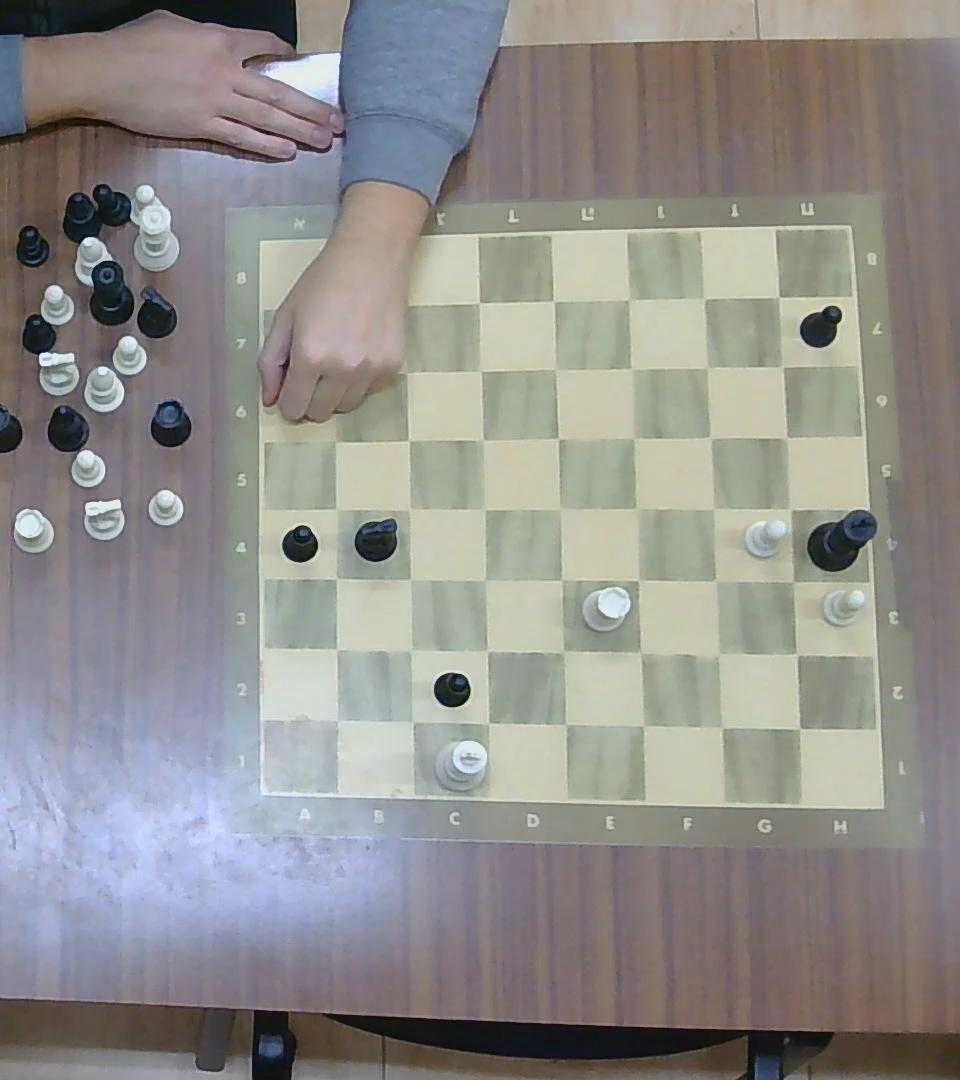xcorner: (781, 710, 815, 744), (389, 286, 423, 320), (701, 638, 735, 670), (548, 706, 580, 738), (705, 710, 736, 743), (625, 635, 656, 667), (626, 709, 657, 741), (622, 563, 654, 594), (471, 707, 503, 737), (320, 292, 350, 324), (321, 703, 351, 734), (396, 705, 427, 735), (622, 492, 652, 523), (781, 639, 812, 669), (548, 636, 578, 666), (471, 636, 501, 666), (615, 283, 645, 313), (700, 565, 730, 595), (539, 285, 569, 315), (320, 563, 350, 593), (465, 286, 494, 317), (545, 494, 574, 524), (698, 493, 728, 522), (470, 493, 500, 522), (548, 565, 577, 595), (397, 635, 426, 664), (776, 493, 805, 522), (617, 353, 646, 382), (470, 566, 500, 594), (777, 566, 807, 594), (621, 422, 649, 451), (543, 353, 571, 382), (470, 424, 498, 453), (396, 564, 424, 593), (693, 352, 722, 380), (545, 424, 573, 452), (322, 635, 350, 663), (691, 284, 719, 312), (467, 355, 495, 383), (318, 355, 346, 383), (698, 422, 725, 451), (769, 352, 797, 379), (323, 496, 351, 523), (772, 422, 801, 448), (396, 494, 423, 521), (395, 427, 423, 453), (321, 427, 349, 453), (393, 358, 420, 383), (767, 285, 791, 308)
